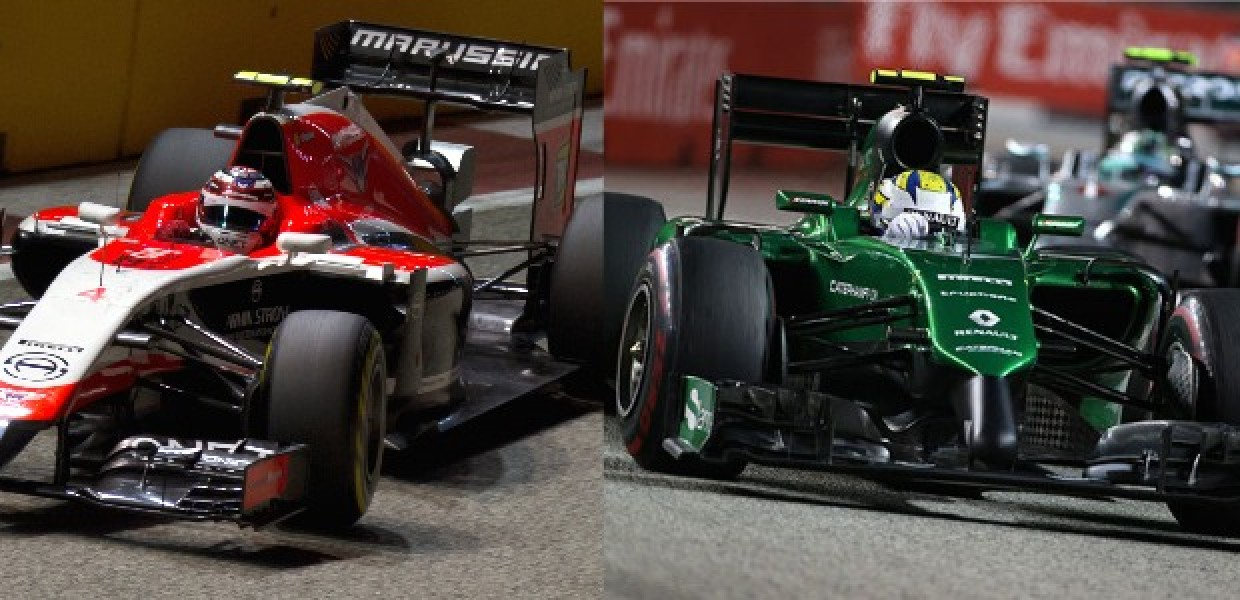f1_car: (3, 11, 600, 565), (607, 48, 1239, 557)
